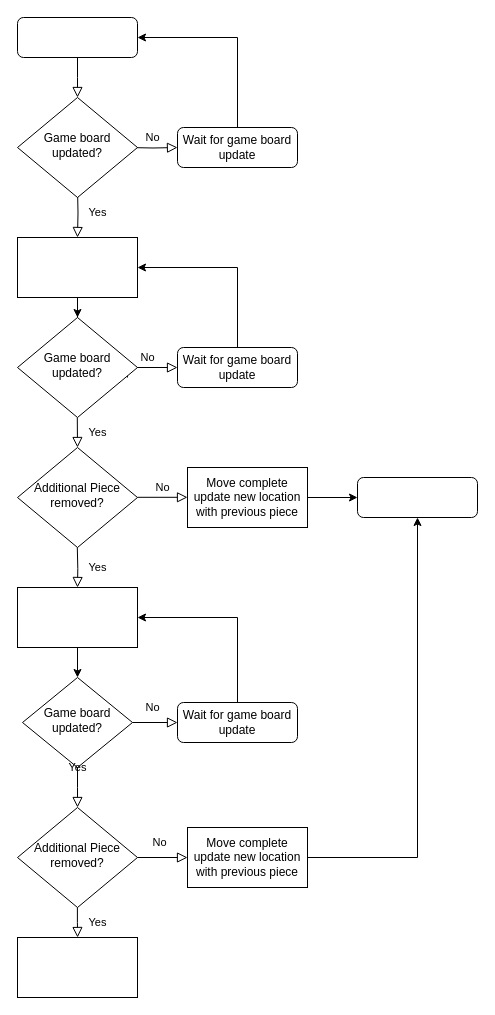
Some shapes in this 495 by 1015 pixel diagram are drawn without their labels. The shapes that lost their labels are listed below. From the top down, each one's centre as x and y in pixels, then its label:
At point (77, 37): "New Player Turn".
At point (77, 267): "Move in progress record removed piece".
At point (417, 497): "Next player turn".
At point (77, 617): "Capture in progress Record captured piece".
At point (77, 967): "Invalid game state".
